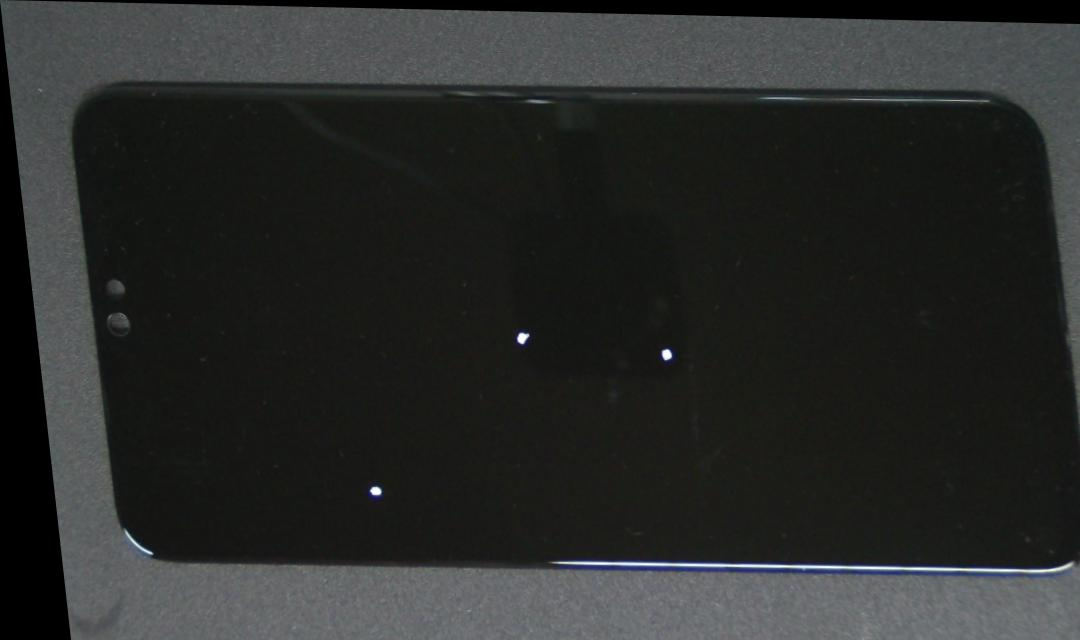Dislodged Screen: (506, 276, 546, 378), (353, 450, 404, 518), (655, 330, 684, 398)
